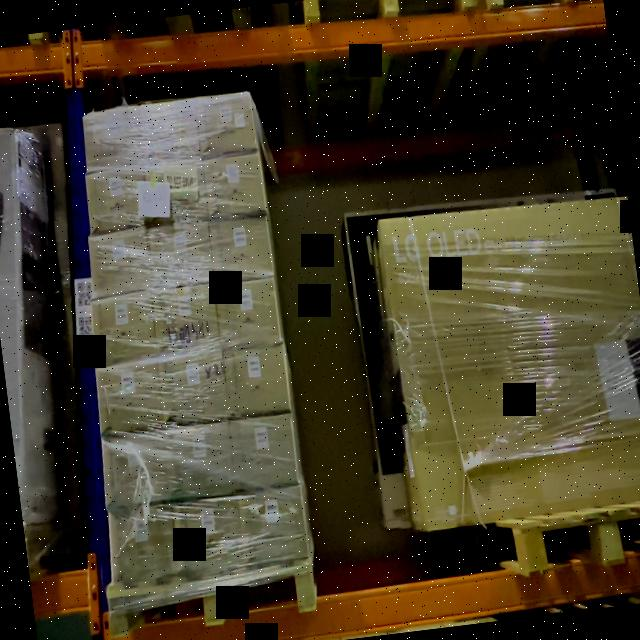box: (379, 188, 640, 526), (172, 497, 244, 578), (109, 506, 178, 588), (101, 430, 172, 506), (166, 424, 233, 499), (95, 362, 164, 434), (157, 350, 226, 422), (222, 344, 290, 416), (239, 490, 306, 562), (230, 416, 296, 489), (92, 294, 156, 362), (216, 280, 280, 348), (153, 284, 218, 350), (209, 216, 272, 282), (148, 222, 214, 284), (81, 106, 144, 170), (89, 230, 152, 294), (144, 161, 207, 224), (196, 92, 256, 156), (138, 101, 200, 162), (86, 168, 147, 229), (204, 156, 264, 216)
